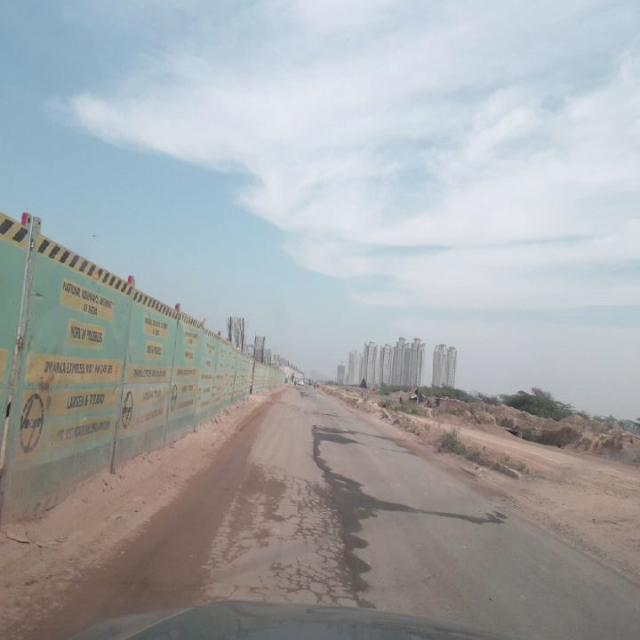D00: (306, 422, 372, 606)
D20: (217, 444, 360, 601)
